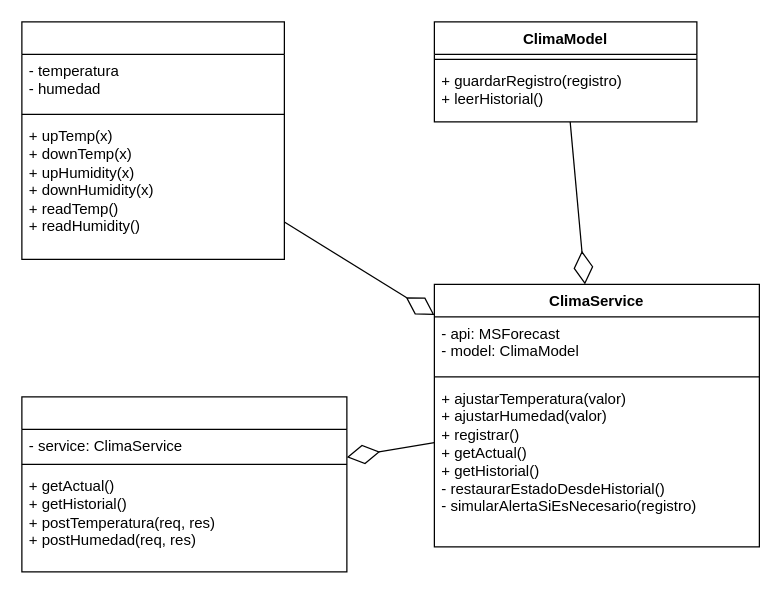
Some shapes in this 781 by 598 pixel diagram are drawn without their labels. The box of each missing label's shape, as (x1, y1, x2, y2) in pixels:
ClimaController: (21, 396, 347, 572)
MSForecast: (21, 21, 284, 259)
